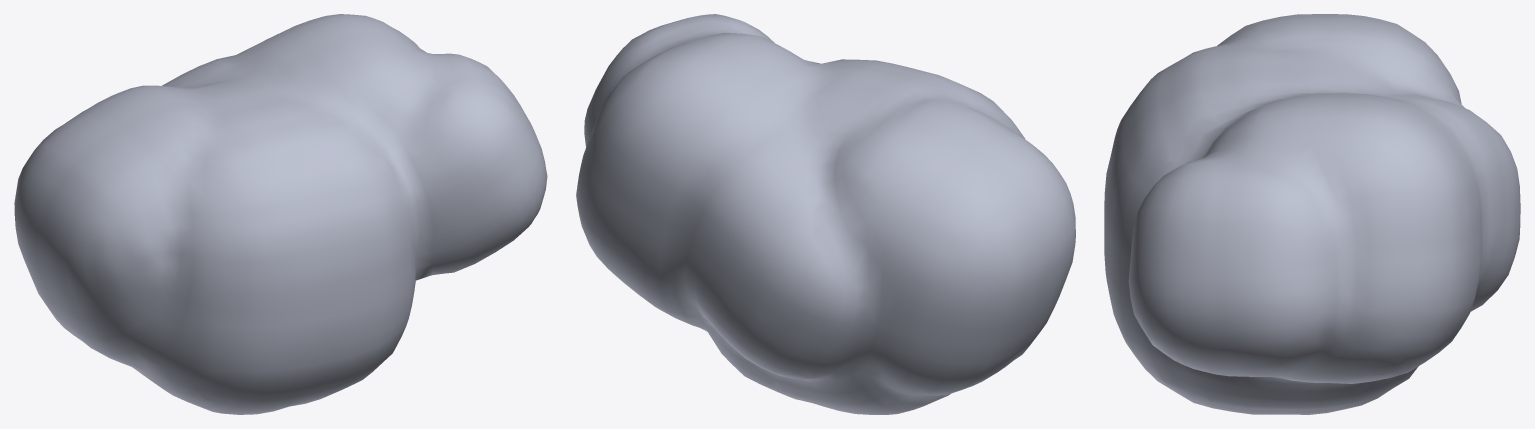
The model's file is Cloud2.fbx.
3 views of the same model, side by side, from view 1: azimuth 30°, elevation 25°; view 2: azimuth 150°, elevation 25°; view 3: azimuth 270°, elevation 25° (orthographic). The views are drawn at different scales.
Visible parts, largest first — view 1: polySurface2; view 2: polySurface2; view 3: polySurface2.
Boxes of the visible parts, x1,y1,x2,y2 form: polySurface2: (14,14,547,414); polySurface2: (576,14,1075,414); polySurface2: (1104,14,1520,414).
Bounding box in the file's own units: 995 × 636 × 693.
